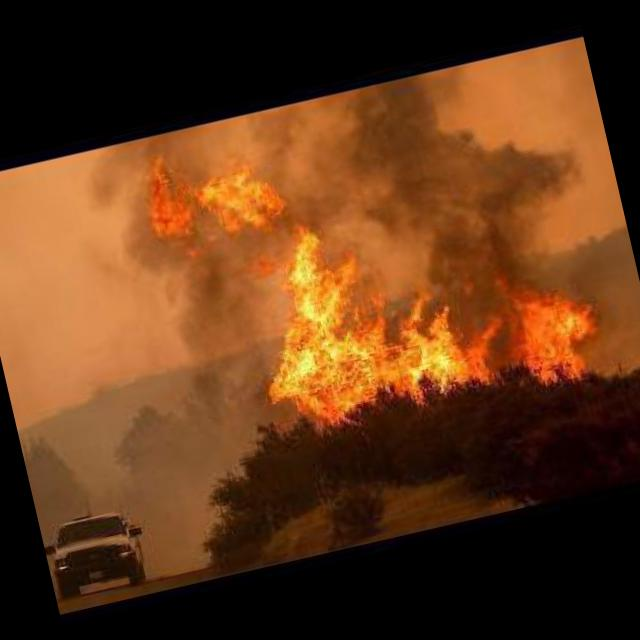fire: (132, 76, 500, 447), (494, 275, 601, 386)
smoke: (300, 36, 607, 370), (124, 220, 289, 436)
